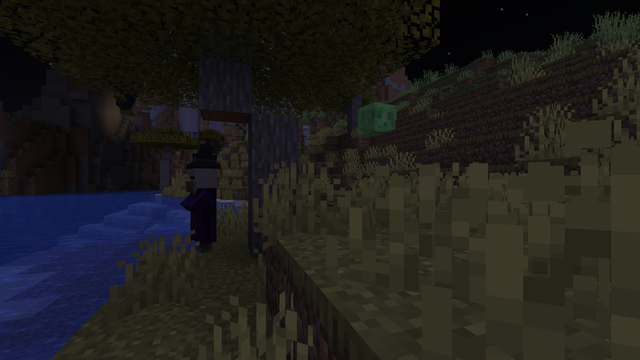slimes: (357, 100, 396, 135)
sorcieres: (187, 164, 217, 254)
squelettes: (302, 125, 309, 146)
